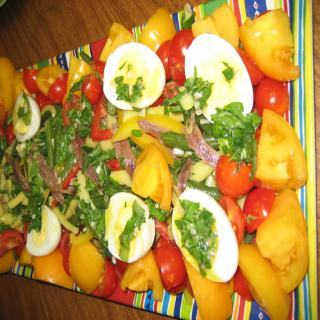tomato: (240, 186, 274, 231), (169, 27, 196, 83), (218, 153, 250, 200), (255, 76, 289, 120), (215, 194, 245, 241), (157, 245, 185, 286), (237, 46, 263, 86), (156, 37, 173, 83), (97, 260, 118, 297), (80, 74, 102, 106), (0, 228, 24, 257), (47, 72, 68, 103), (59, 232, 70, 276), (22, 67, 40, 93)
